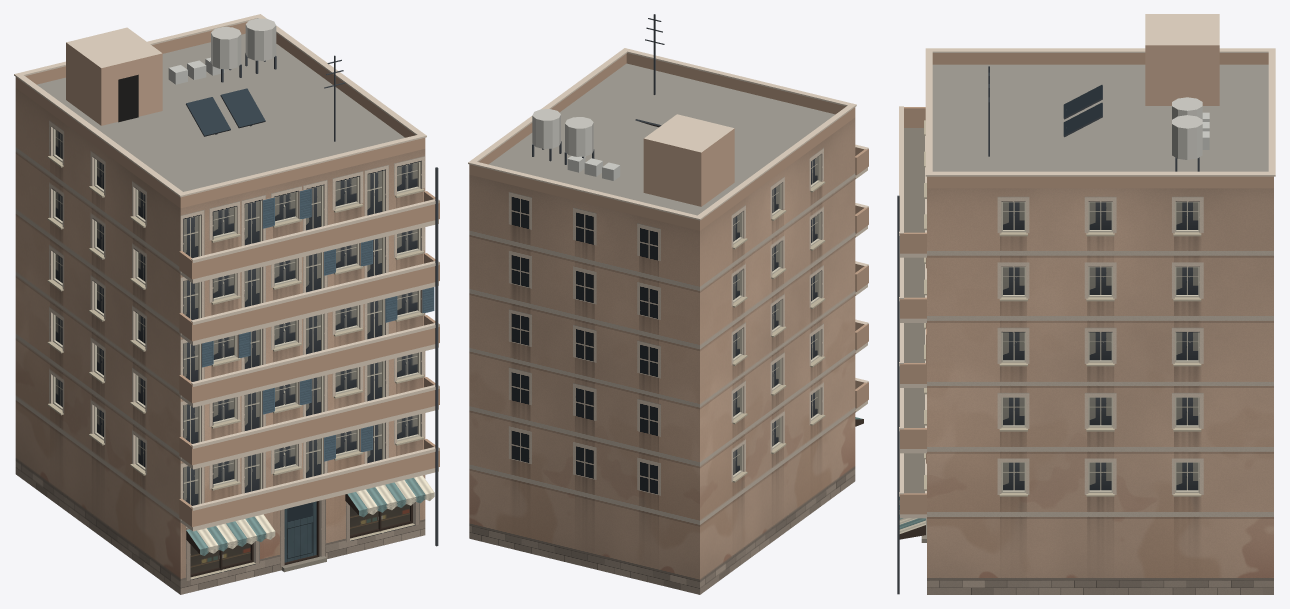
The model's file is hero_res_mid_b.glb.
3 views of the same model, side by side, from view 1: azimuth 30°, elevation 25°; view 2: azimuth 150°, elevation 25°; view 3: azimuth 270°, elevation 25° (orthographic). The views are drawn at different scales.
Visible parts, largest first — view 1: bld_hero_res_mid_b; view 2: bld_hero_res_mid_b; view 3: bld_hero_res_mid_b.
Part boxes in pixels (bbox=[...]): bld_hero_res_mid_b: bbox=[14, 14, 439, 594]; bld_hero_res_mid_b: bbox=[468, 14, 868, 594]; bld_hero_res_mid_b: bbox=[897, 14, 1275, 594].
Bounding box in the file's own units: 12.52 × 22.13 × 15.26.
1 material, 1 textured.
